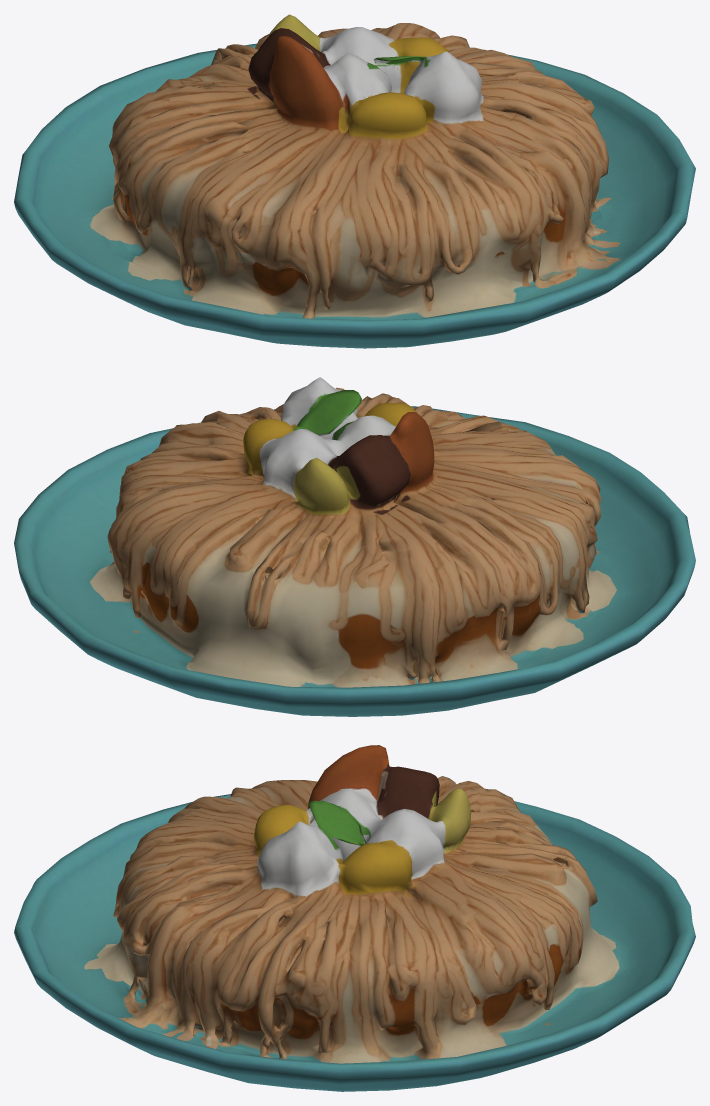
Rendered from mont_blanc.glb.
3 renders of one model, top to bottom at view 1: azimuth 30°, elevation 25°; view 2: azimuth 150°, elevation 25°; view 3: azimuth 270°, elevation 25°, orthographic.
Parts seen in each view (by area): view 1: tripo_node_1ee01bab-50a0-491d-8e0d-777af5838f64; view 2: tripo_node_1ee01bab-50a0-491d-8e0d-777af5838f64; view 3: tripo_node_1ee01bab-50a0-491d-8e0d-777af5838f64.
Part boxes in pixels (left/top/right/bottom): tripo_node_1ee01bab-50a0-491d-8e0d-777af5838f64: left=14, top=14, right=695, bottom=348; tripo_node_1ee01bab-50a0-491d-8e0d-777af5838f64: left=14, top=377, right=695, bottom=716; tripo_node_1ee01bab-50a0-491d-8e0d-777af5838f64: left=14, top=745, right=695, bottom=1091.
Size of the model in its own units: 0.9861 by 0.3519 by 0.9901.
Materials: 1 (1 with a texture image).
